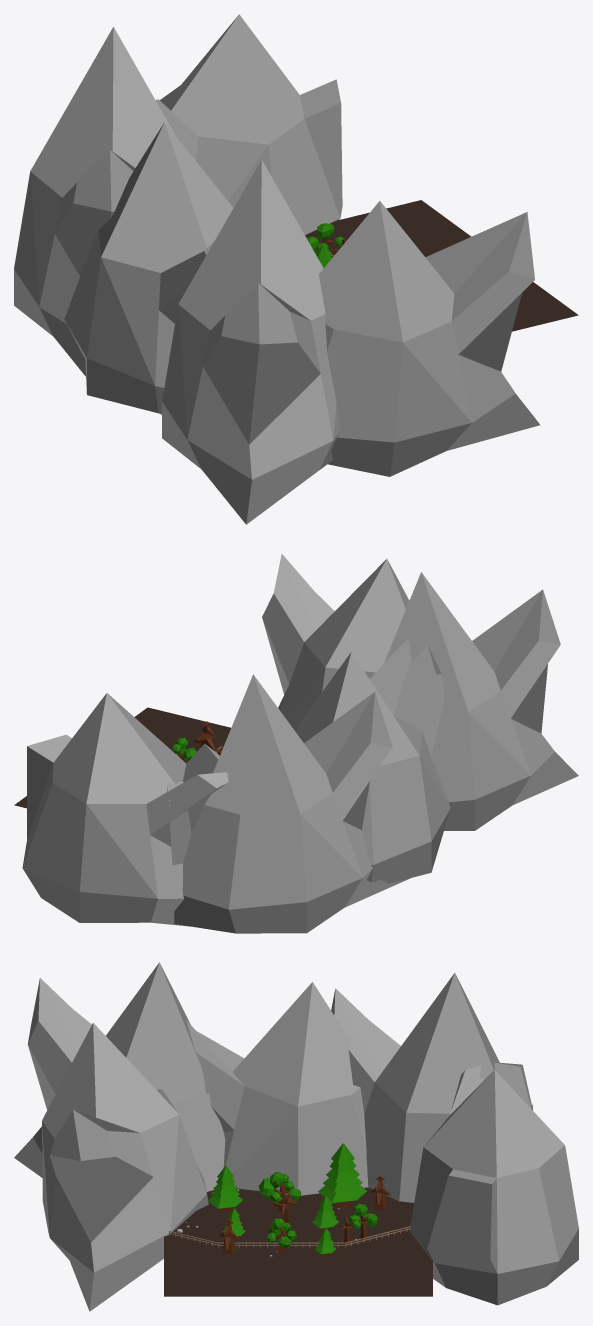
3 renders of one model, top to bottom at view 1: azimuth 30°, elevation 25°; view 2: azimuth 150°, elevation 25°; view 3: azimuth 270°, elevation 25°, orthographic. The views are drawn at different scales.
Visible parts, largest first — view 1: Mountain1.003, Mountain1.002, Mountain1, Mountain1.001, Mountain1.004, Plane; view 2: Mountain1.001, Mountain1.004, Mountain1.002, Mountain1, Mountain1.003, Plane; view 3: Mountain1.003, Mountain1.004, Mountain1, Plane, Mountain1.001, Mountain1.002, TreePine.003, TreePine.004, TreeRegular2.001, TreeRegular2, TreeRegular, TreePine.
Part boxes in pixels (box(x1,y1,x2,y2)): Mountain1.003: box(318, 201, 540, 476); Mountain1.002: box(162, 159, 340, 524); Mountain1: box(64, 122, 233, 414); Mountain1.001: box(14, 27, 175, 376); Mountain1.004: box(155, 14, 342, 235); Plane: box(305, 200, 578, 331); Mountain1.001: box(167, 674, 410, 933); Mountain1.004: box(22, 693, 228, 926); Mountain1.002: box(384, 572, 578, 830); Mountain1: box(296, 639, 450, 883); Mountain1.003: box(262, 553, 409, 732); Plane: box(14, 707, 230, 808); Mountain1.003: box(42, 1023, 208, 1311); Mountain1.004: box(409, 1062, 578, 1305); Mountain1: box(186, 982, 368, 1195); Plane: box(164, 1187, 432, 1296); Mountain1.001: box(331, 973, 532, 1202); Mountain1.002: box(14, 962, 225, 1191); TreePine.003: box(318, 1143, 366, 1208); TreePine.004: box(207, 1166, 242, 1212); TreeRegular2.001: box(258, 1171, 300, 1211); TreeRegular2: box(267, 1218, 296, 1253); TreeRegular: box(349, 1203, 378, 1240); TreePine: box(312, 1195, 338, 1231).
Bounding box in the file's own units: 122 × 81.1 × 166.
